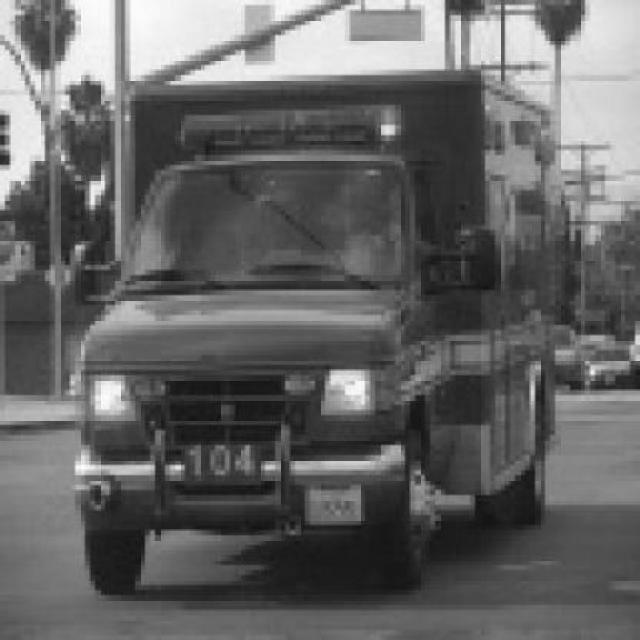Ambulance: (75, 69, 557, 596)
